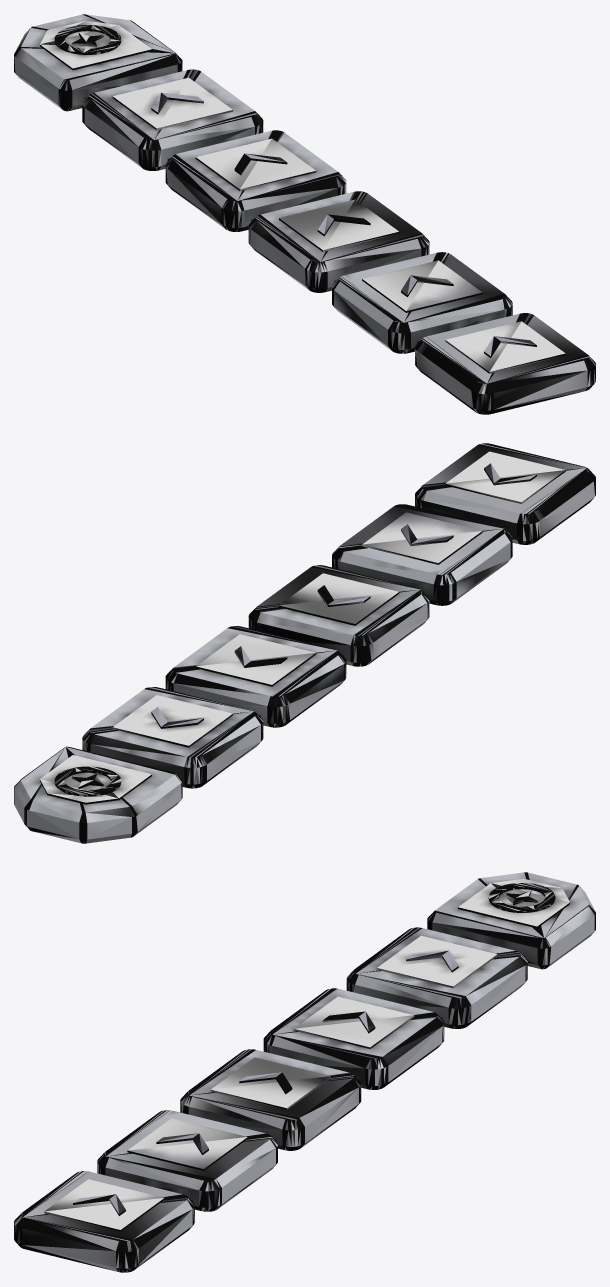
File: FinalLane6_Neutro.glb
The picture shows the model from 3 angles, top to bottom: view 1: azimuth 30°, elevation 25°; view 2: azimuth 150°, elevation 25°; view 3: azimuth 330°, elevation 25°; orthographic projection.
Parts seen in each view (by area): view 1: Tile_1_Body, Tile_3_Body, Tile_5_Body, Tile_4_Body, Tile_2_Body, Tile_6_Body, Tile_1_TeamInset, Tile_2_TeamInset, Tile_4_TeamInset, Tile_5_TeamInset, Tile_3_TeamInset, Tile_6_TeamInset (+1 smaller); view 2: Tile_6_Body, Tile_4_Body, Tile_3_Body, Tile_1_Body, Tile_2_Body, Tile_5_Body, Tile_4_TeamInset, Tile_2_TeamInset, Tile_3_TeamInset, Tile_5_TeamInset, Tile_1_TeamInset, Tile_6_TeamInset (+1 smaller); view 3: Tile_1_Body, Tile_3_Body, Tile_5_Body, Tile_4_Body, Tile_2_Body, Tile_6_Body, Tile_1_TeamInset, Tile_2_TeamInset, Tile_4_TeamInset, Tile_5_TeamInset, Tile_3_TeamInset, Tile_6_TeamInset (+1 smaller).
Part boxes in pixels (x1,y1,x2,y2): Tile_1_Body: [415, 313, 595, 414]; Tile_3_Body: [248, 191, 429, 292]; Tile_5_Body: [82, 69, 263, 170]; Tile_4_Body: [165, 130, 346, 231]; Tile_2_Body: [332, 252, 512, 353]; Tile_6_Body: [14, 14, 182, 111]; Tile_1_TeamInset: [445, 321, 565, 373]; Tile_2_TeamInset: [362, 260, 482, 312]; Tile_4_TeamInset: [195, 138, 316, 190]; Tile_5_TeamInset: [112, 77, 232, 130]; Tile_3_TeamInset: [279, 199, 399, 251]; Tile_6_TeamInset: [40, 20, 151, 70]; Tile_6_Body: [14, 746, 182, 843]; Tile_4_Body: [165, 626, 346, 727]; Tile_3_Body: [248, 565, 429, 666]; Tile_1_Body: [415, 443, 595, 544]; Tile_2_Body: [332, 504, 512, 605]; Tile_5_Body: [82, 687, 263, 788]; Tile_4_TeamInset: [195, 634, 316, 686]; Tile_2_TeamInset: [362, 512, 482, 564]; Tile_3_TeamInset: [279, 573, 399, 625]; Tile_5_TeamInset: [112, 695, 232, 747]; Tile_1_TeamInset: [445, 451, 565, 503]; Tile_6_TeamInset: [40, 755, 151, 804]; Tile_1_Body: [14, 1171, 194, 1272]; Tile_3_Body: [180, 1049, 361, 1150]; Tile_5_Body: [346, 927, 527, 1028]; Tile_4_Body: [263, 988, 444, 1089]; Tile_2_Body: [97, 1110, 277, 1211]; Tile_6_Body: [427, 872, 595, 969]; Tile_1_TeamInset: [44, 1179, 164, 1231]; Tile_2_TeamInset: [127, 1118, 247, 1170]; Tile_4_TeamInset: [293, 996, 414, 1048]; Tile_5_TeamInset: [377, 935, 497, 988]; Tile_3_TeamInset: [210, 1057, 330, 1109]; Tile_6_TeamInset: [458, 878, 569, 928].
Size of the model in its own units: 0.85 by 0.225 by 5.85.
5 materials, 5 textured.
